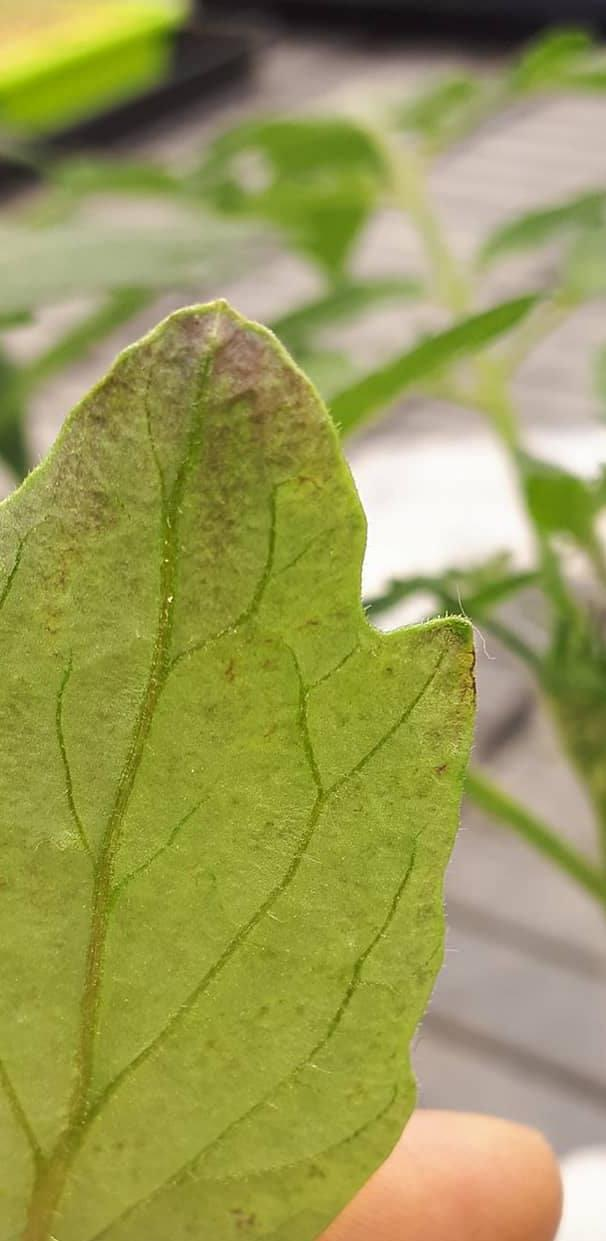Tomato mold leaf: (0, 264, 509, 1241)
